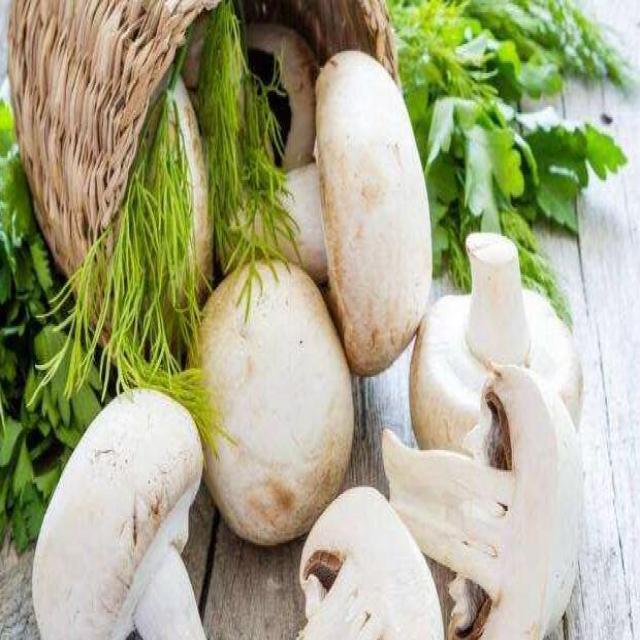Agaricus bisporus: (382, 361, 584, 640), (267, 54, 431, 372), (412, 227, 612, 467), (31, 386, 218, 640), (193, 258, 356, 544), (301, 485, 446, 640)
